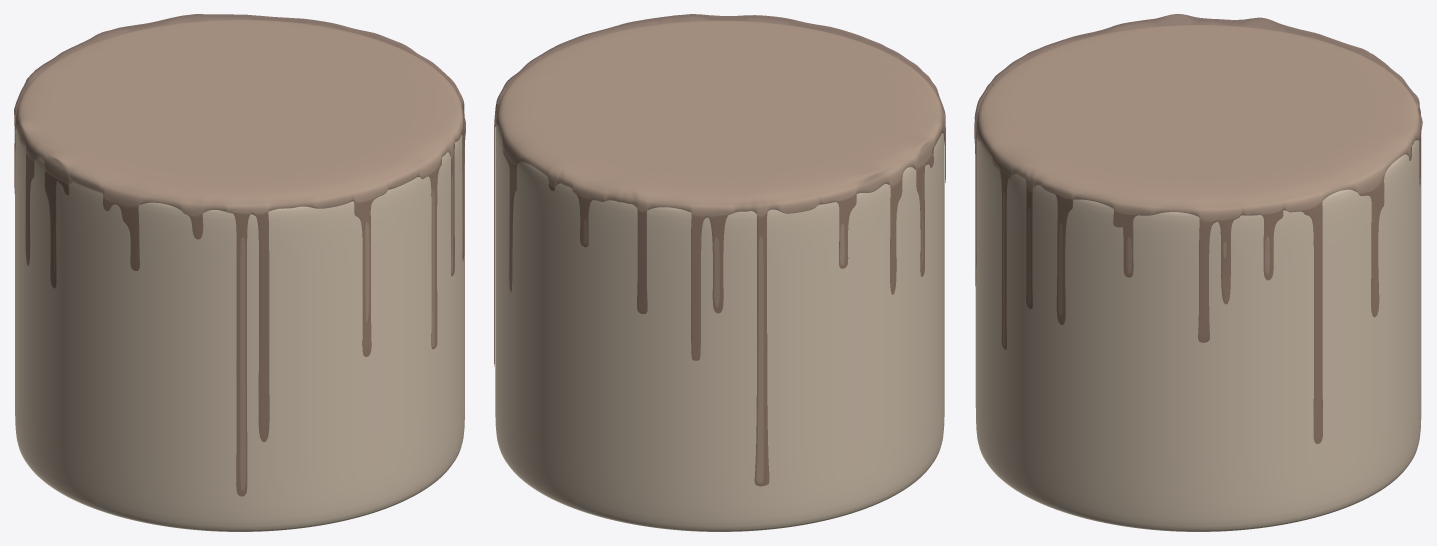
Rendered from Cake_Layer_1_Cream_BrownDrip.glb.
The picture shows the model from 3 angles, left to right: view 1: azimuth 30°, elevation 25°; view 2: azimuth 150°, elevation 25°; view 3: azimuth 270°, elevation 25°; orthographic projection.
Parts seen in each view (by area): view 1: Circle, Circle.001; view 2: Circle, Circle.001; view 3: Circle, Circle.001.
Boxes of the visible parts, box(x1,y1,x2,y2) form: Circle: box(15, 20, 464, 531); Circle.001: box(14, 14, 465, 496); Circle: box(495, 20, 944, 531); Circle.001: box(494, 14, 945, 486); Circle: box(975, 25, 1421, 531); Circle.001: box(974, 14, 1422, 443).
Size of the model in its own units: 0.1501 by 0.1237 by 0.1499.
